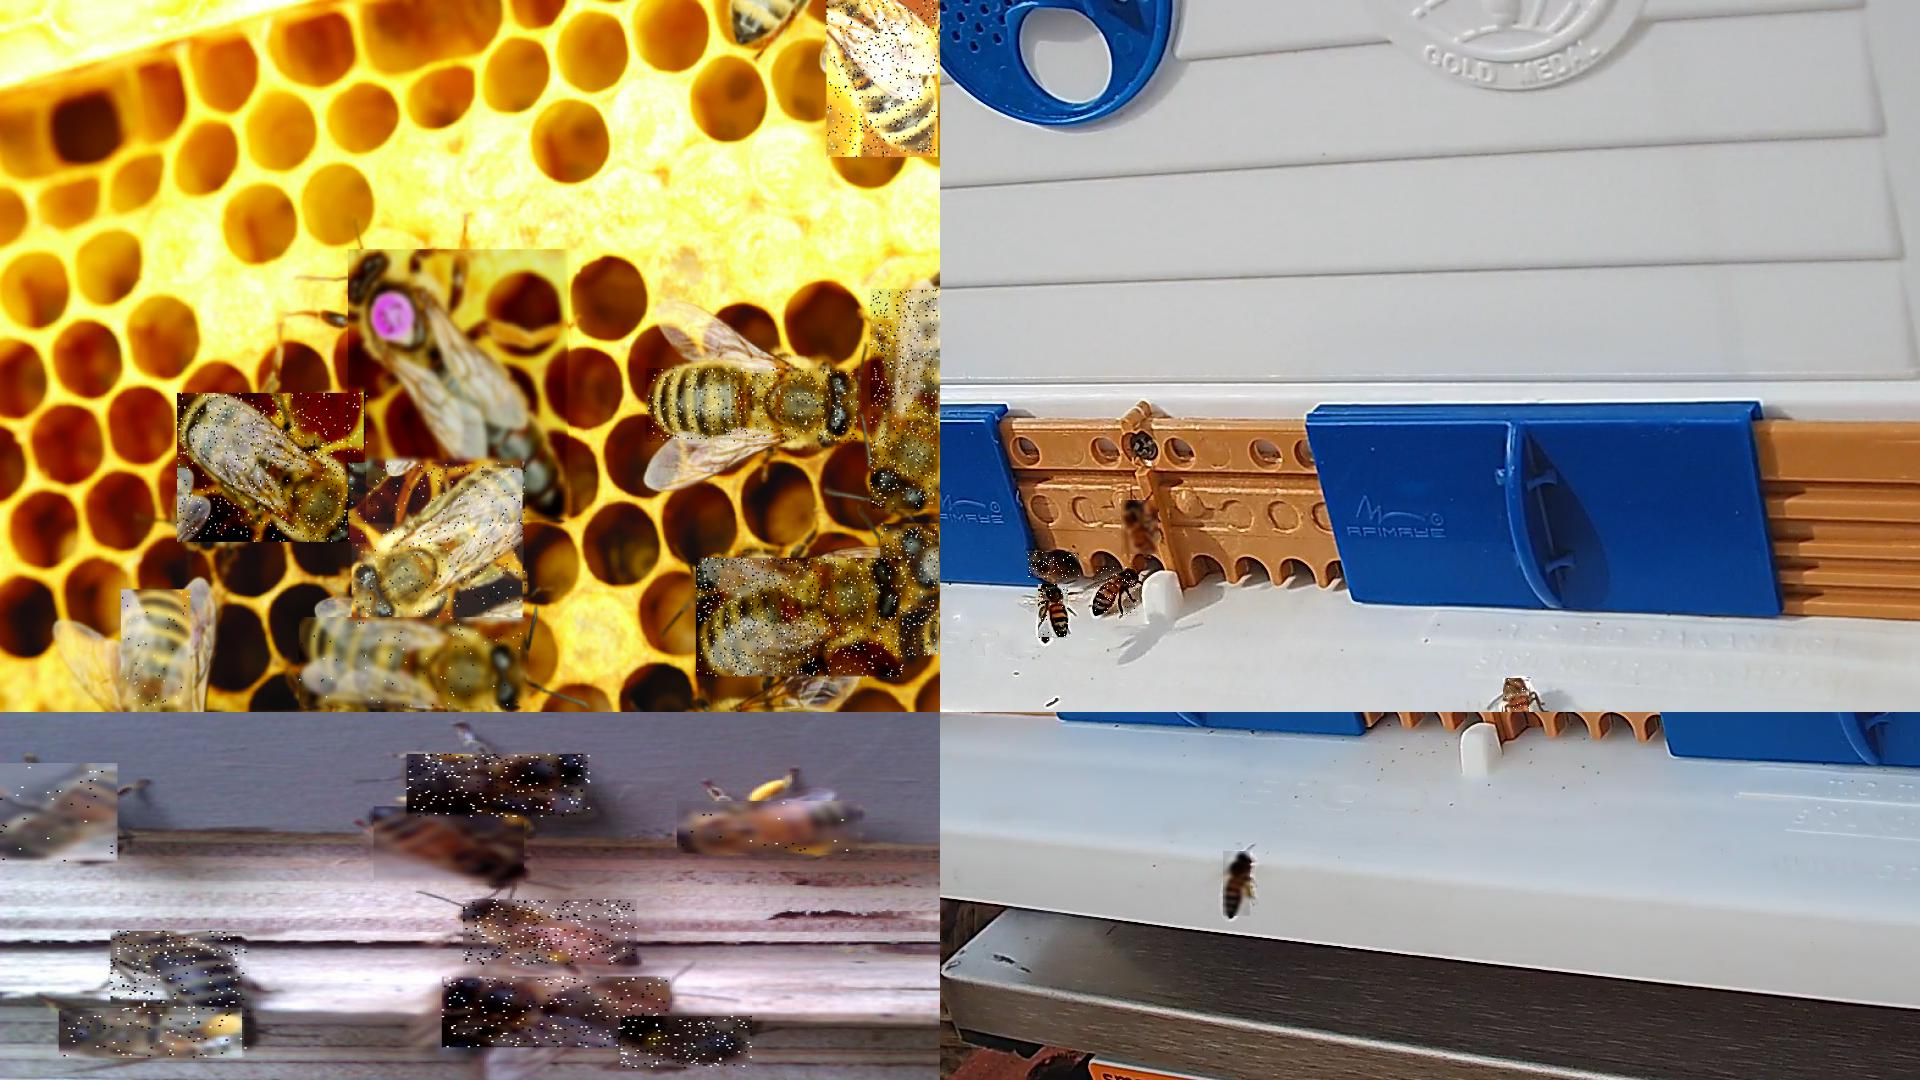bee: (352, 463, 529, 626), (178, 393, 369, 543), (698, 558, 906, 678), (301, 618, 530, 709), (827, 0, 939, 158), (442, 977, 673, 1048), (646, 368, 860, 443), (870, 289, 939, 510), (373, 807, 526, 886), (0, 764, 120, 862), (464, 899, 640, 967), (113, 932, 252, 1014), (121, 591, 193, 712), (881, 524, 939, 657), (622, 1017, 757, 1071), (1093, 566, 1139, 617), (1121, 500, 1159, 555), (1224, 851, 1251, 916), (1029, 553, 1080, 579), (1503, 678, 1531, 711)
pollenbee: (409, 756, 595, 819), (679, 802, 865, 855), (61, 1010, 253, 1059), (1038, 585, 1069, 642)
queen: (349, 251, 571, 524)
